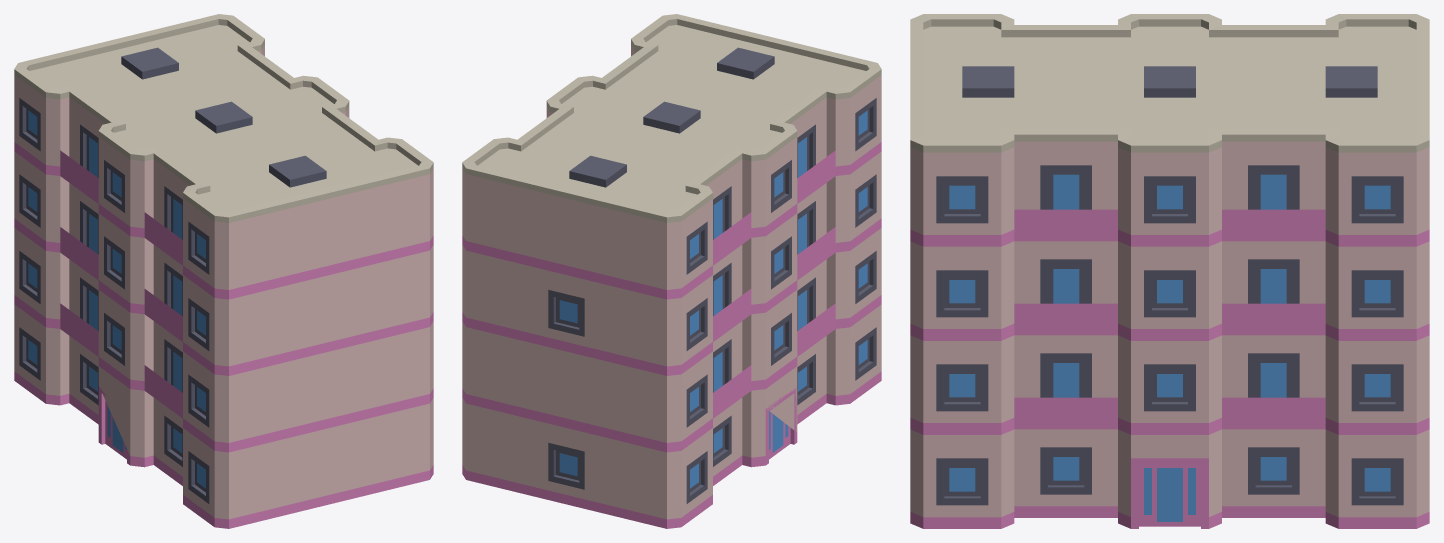
The picture shows the model from 3 angles, left to right: view 1: azimuth 30°, elevation 25°; view 2: azimuth 150°, elevation 25°; view 3: azimuth 270°, elevation 25°; orthographic projection. The views are drawn at different scales.
Parts seen in each view (by area): view 1: predio 4.003; view 2: predio 4.003; view 3: predio 4.003.
Boxes of the visible parts, <box> form: predio 4.003: <box>14,14,433,528</box>; predio 4.003: <box>462,14,881,528</box>; predio 4.003: <box>910,14,1429,528</box>.
Bounding box in the file's own units: 5589 × 7638 × 9315.
